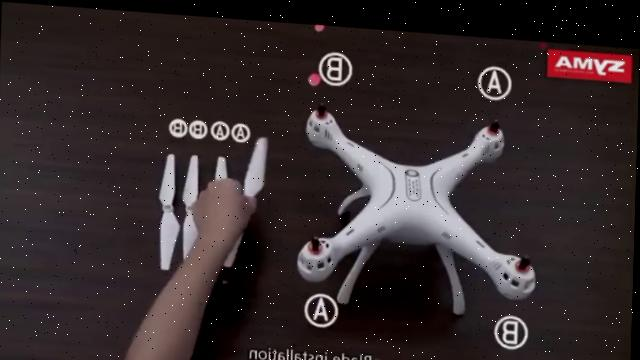drone: (296, 94, 542, 304)
